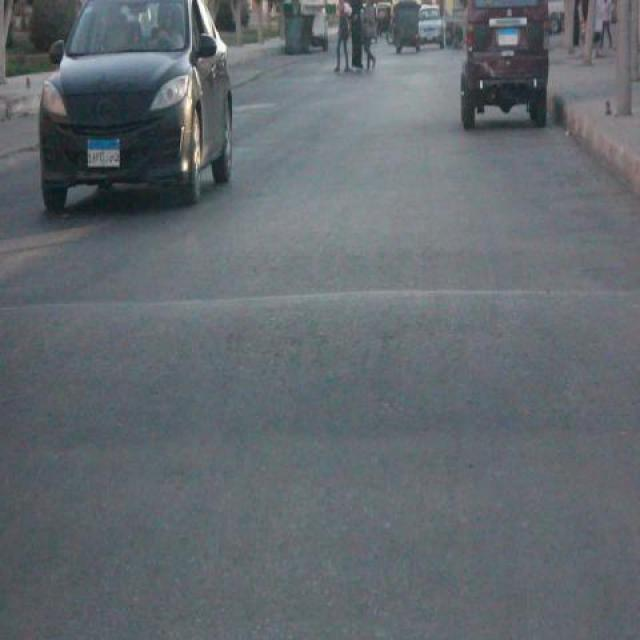Unmarked Bump: (1, 284, 640, 448)
